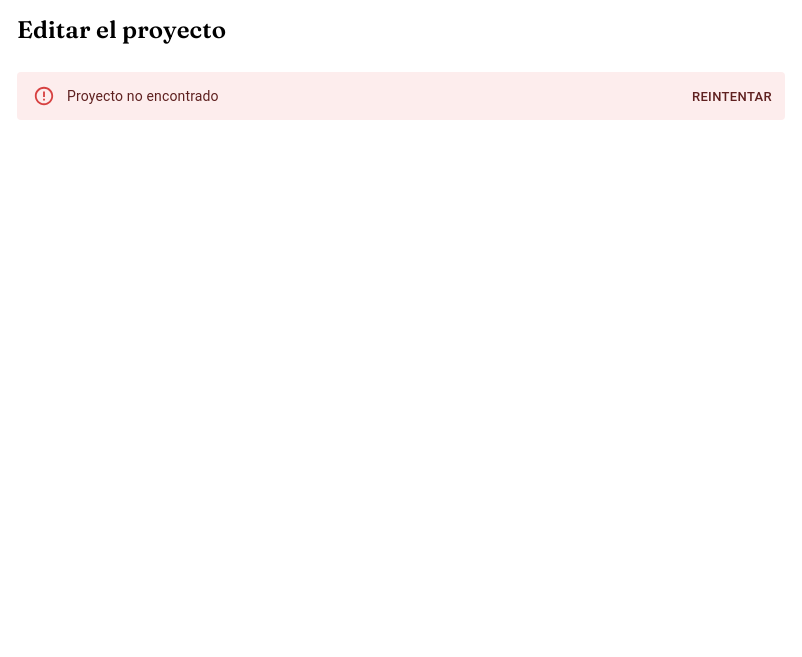
Test: EditarProyecto › si no puede cargar el proyecto muestra el error y permite reintentar
Expected: the text "Proyecto no encontrado" is shown, [67,88,219,104]
Click the button "Reintentar": (732, 97) [687,82,777,113]
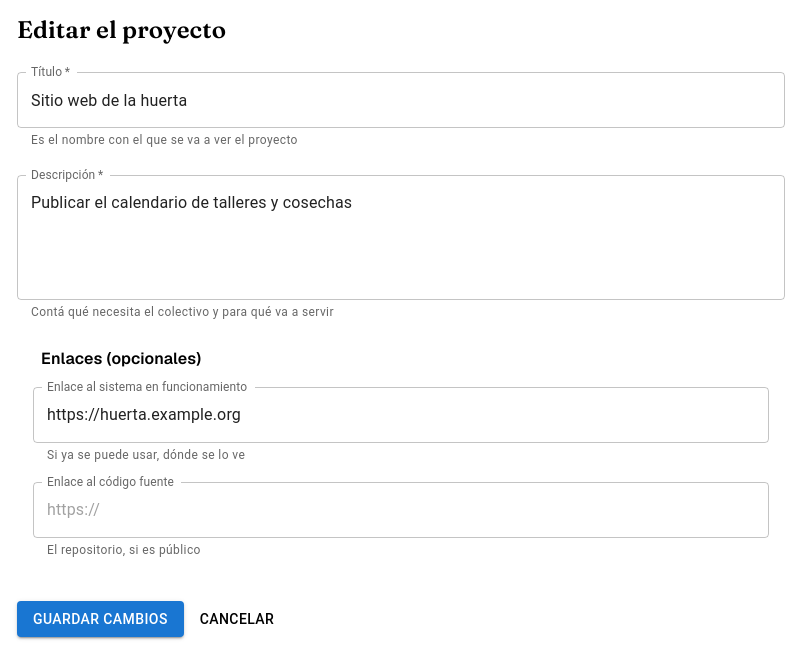
Result: the field labelled "Título *" holds "Sitio web de la huerta" at [17,72,785,128]
